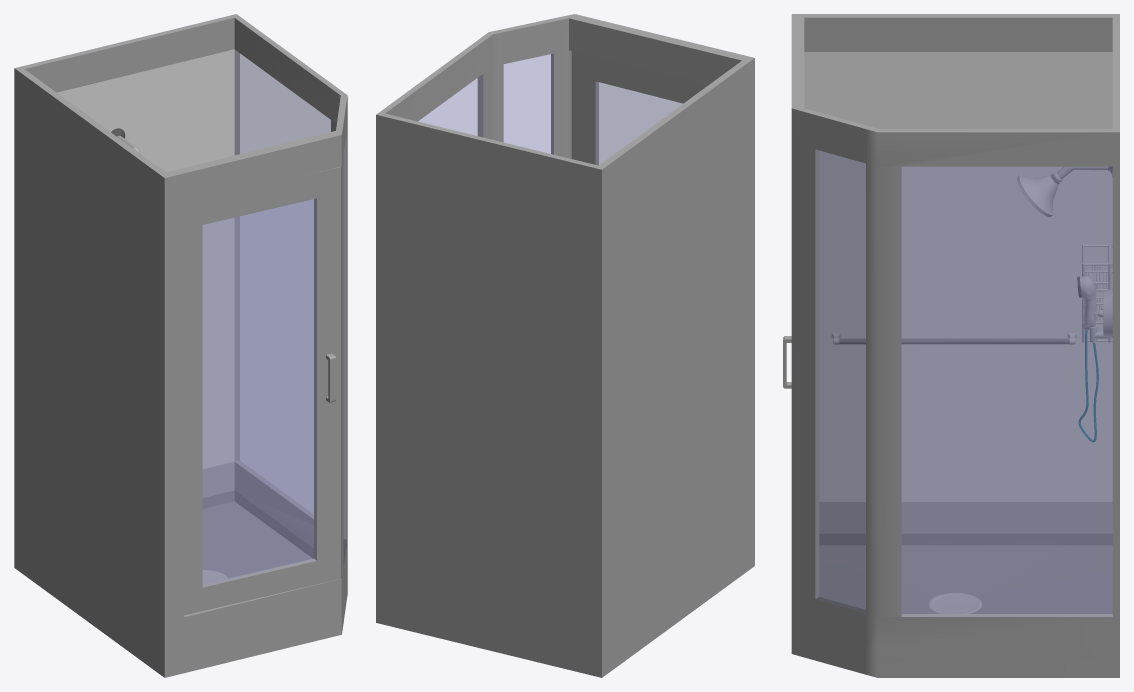
File: sh_blend_swap_cc_0_showerstall.glb
The picture shows the model from 3 angles, left to right: view 1: azimuth 30°, elevation 25°; view 2: azimuth 150°, elevation 25°; view 3: azimuth 270°, elevation 25°; orthographic projection. The views are drawn at different scales.
Size of the model in its own units: 0.9306 by 2 by 1.12.
